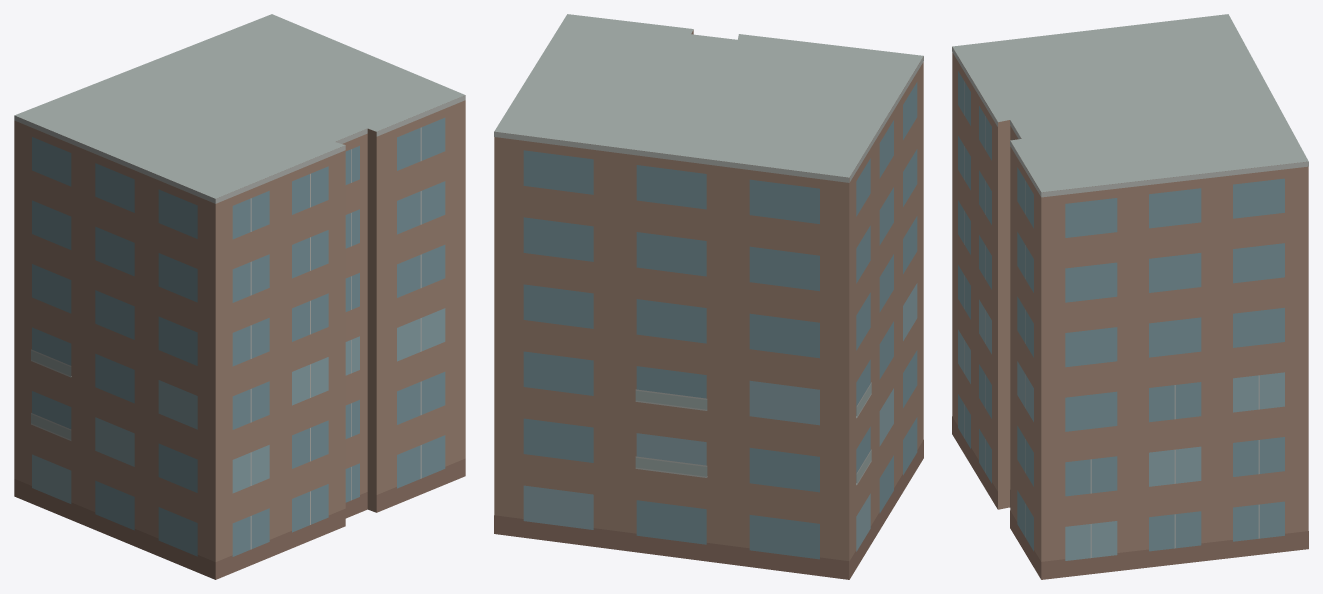
The model's file is survey-upis-32977299.glb.
3 views of the same model, side by side, from view 1: azimuth 30°, elevation 25°; view 2: azimuth 150°, elevation 25°; view 3: azimuth 270°, elevation 25° (orthographic). The views are drawn at different scales.
Visible parts, largest first — view 1: survey-upis-32977299.tmp; view 2: survey-upis-32977299.tmp; view 3: survey-upis-32977299.tmp.
Boxes of the visible parts, x1,y1,x2,y2 form: survey-upis-32977299.tmp: (14, 14, 465, 579); survey-upis-32977299.tmp: (494, 14, 923, 579); survey-upis-32977299.tmp: (952, 14, 1308, 579).
Size of the model in its own units: 18.16 by 18.4 by 15.36.
